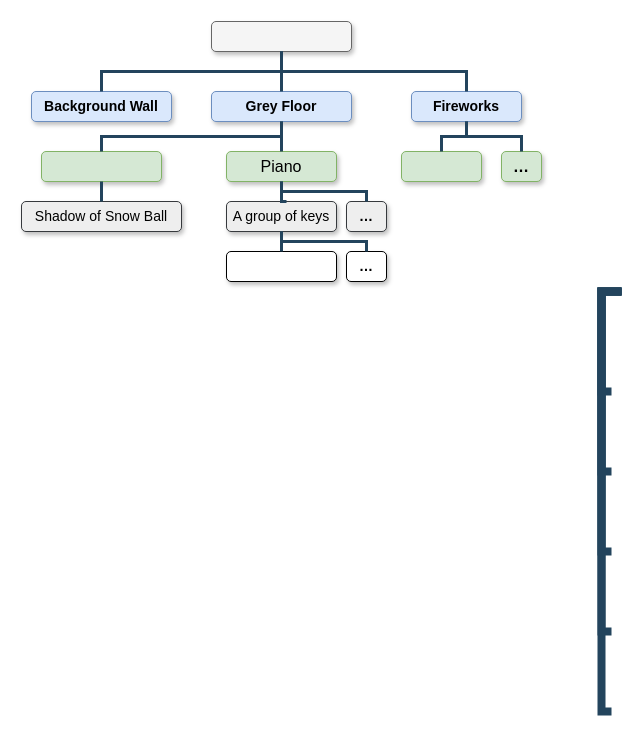
Some shapes in this 644 by 734 pixel diagram are drawn without their labels. Here are the shapes that lost their labels. From the top down, the centre of each, then its label:
At point 282,37: "World".
At point 102,167: "Snow Ball".
At point 442,167: "Circle".
At point 282,267: "Single Key".
